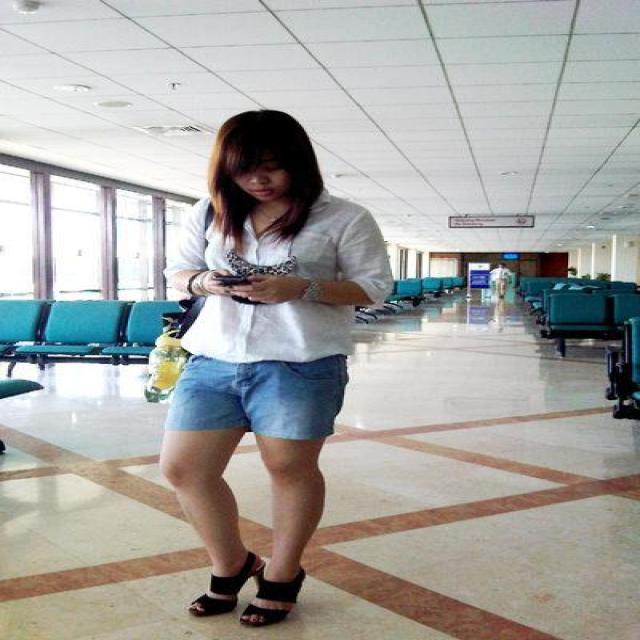shirt: (150, 185, 402, 362)
shoe: (189, 563, 304, 627)
shorts: (181, 354, 347, 447)
